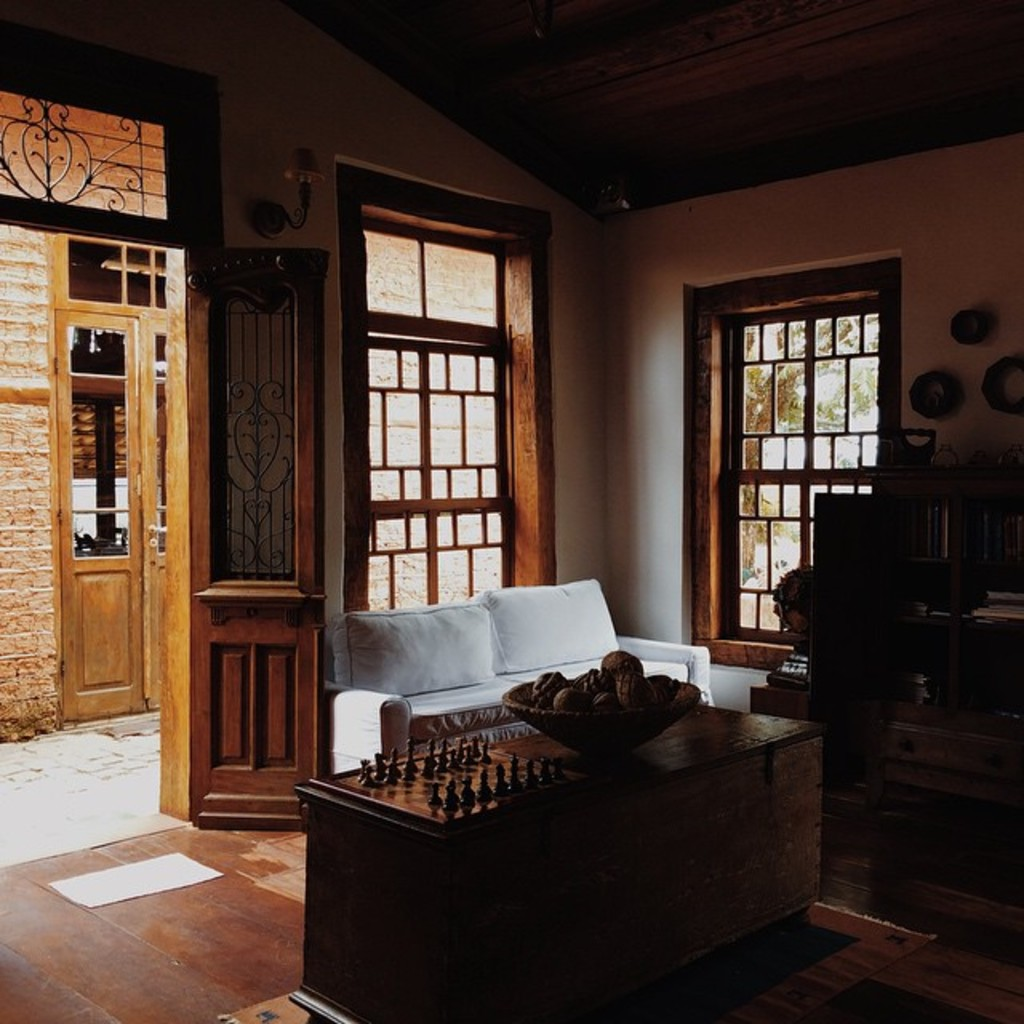Cabinetry: (286, 691, 842, 1022), (806, 485, 1022, 834)
